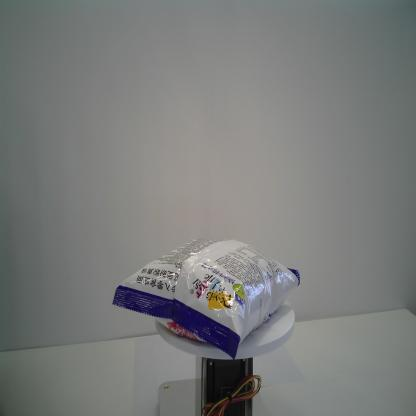Puffed Food: (111, 236, 301, 361)
